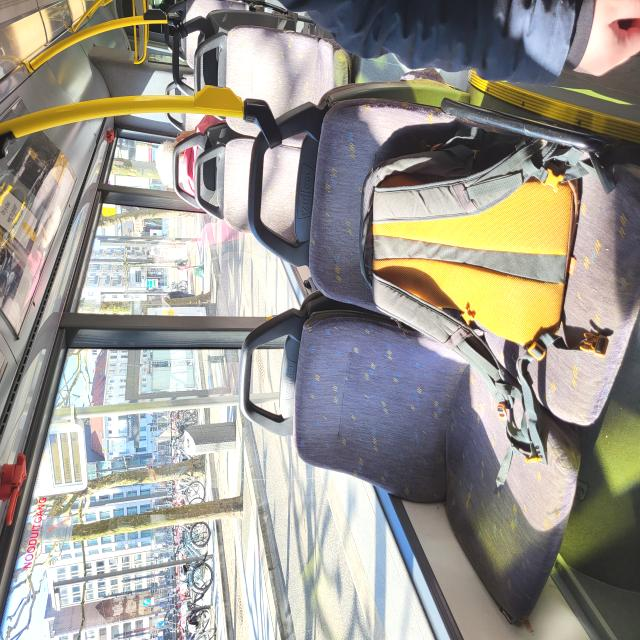asiento-libre: (11, 319, 264, 640), (9, 318, 259, 640), (366, 259, 458, 477), (378, 258, 463, 474), (298, 258, 387, 414), (426, 224, 480, 394)
